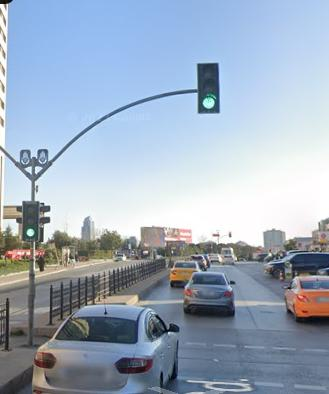greenlight: (202, 64, 219, 112), (27, 202, 36, 244)
